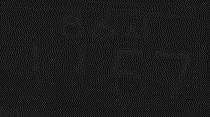1: (61, 44, 99, 99), (17, 44, 53, 99)
5: (111, 48, 147, 100)
6: (89, 14, 115, 38)
7: (153, 49, 192, 99)
8: (58, 14, 84, 39)
서: (122, 13, 152, 39)
